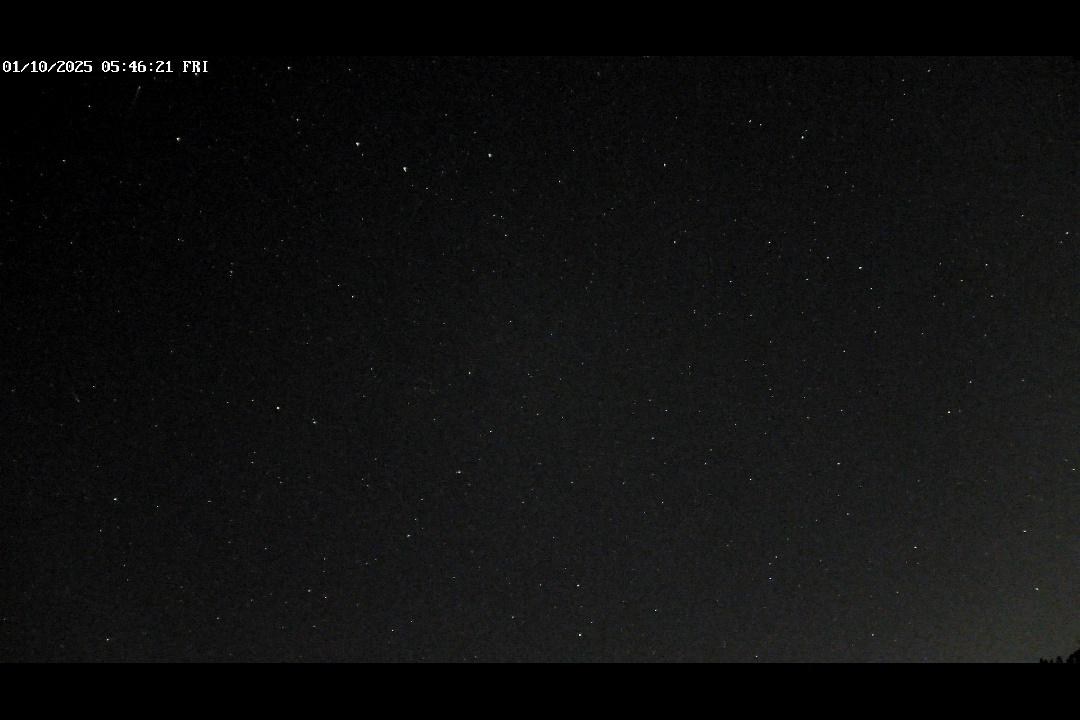Plane: (129, 83, 144, 118), (71, 388, 83, 407)
